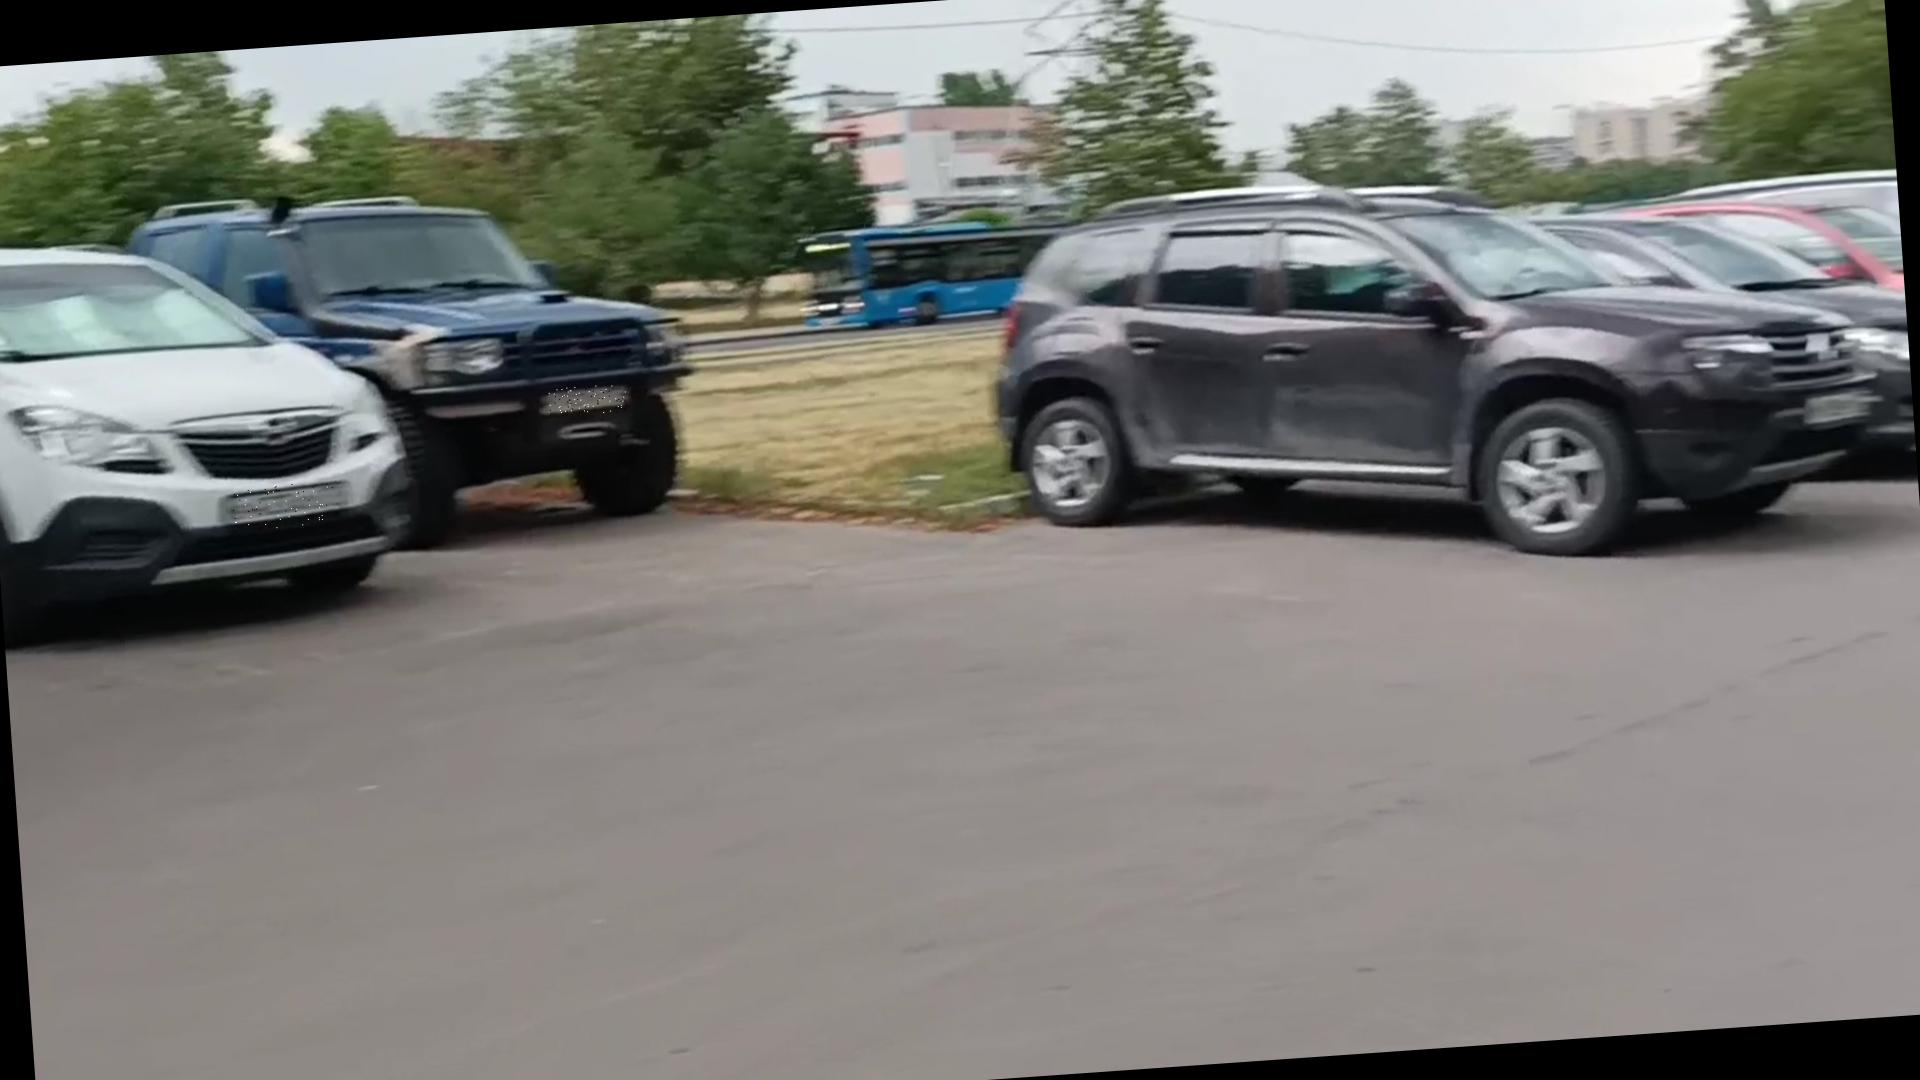plate: (227, 482, 338, 534), (551, 383, 630, 418)
